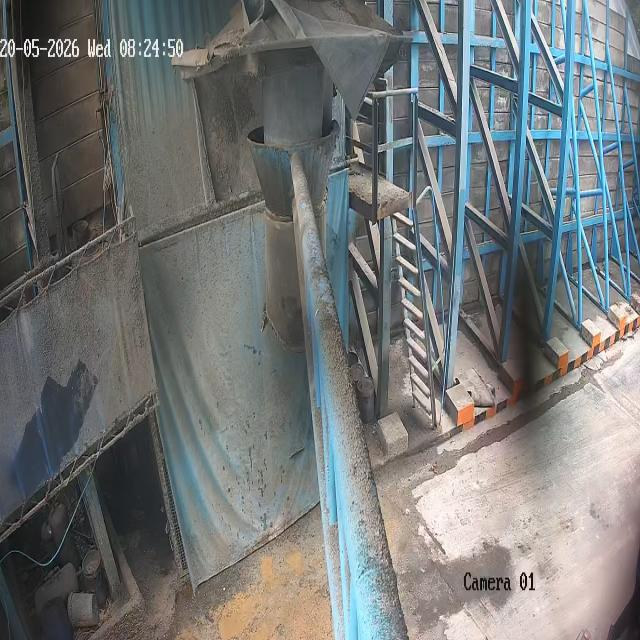swing_chute: (246, 127, 340, 355)
